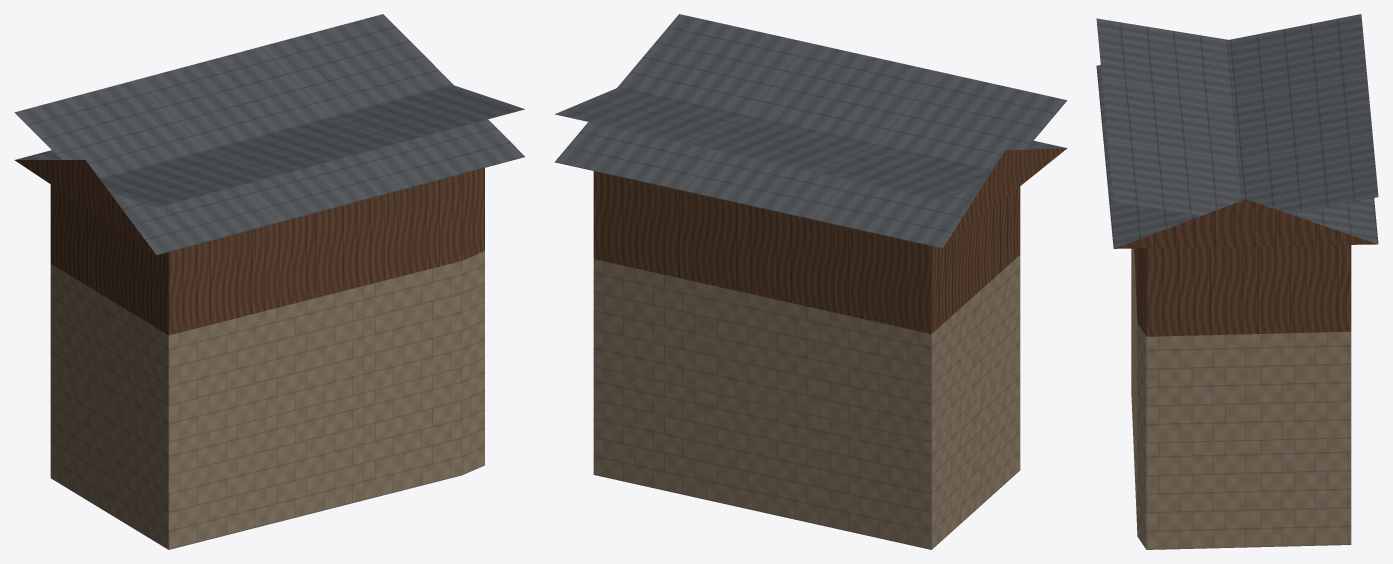
File: bld_c-3_3_536.gltf
3 renders of one model, left to right at view 1: azimuth 30°, elevation 25°; view 2: azimuth 150°, elevation 25°; view 3: azimuth 270°, elevation 25°, orthographic.
Parts seen in each view (by area): view 1: bld_c-3_3_536; view 2: bld_c-3_3_536; view 3: bld_c-3_3_536.
Boxes of the visible parts, x1,y1,x2,y2 form: bld_c-3_3_536: (14,14,524,549); bld_c-3_3_536: (555,14,1067,549); bld_c-3_3_536: (1096,14,1378,549).
Bounding box in the file's own units: 8.49 × 7.6 × 5.4.
4 materials, 4 textured.
